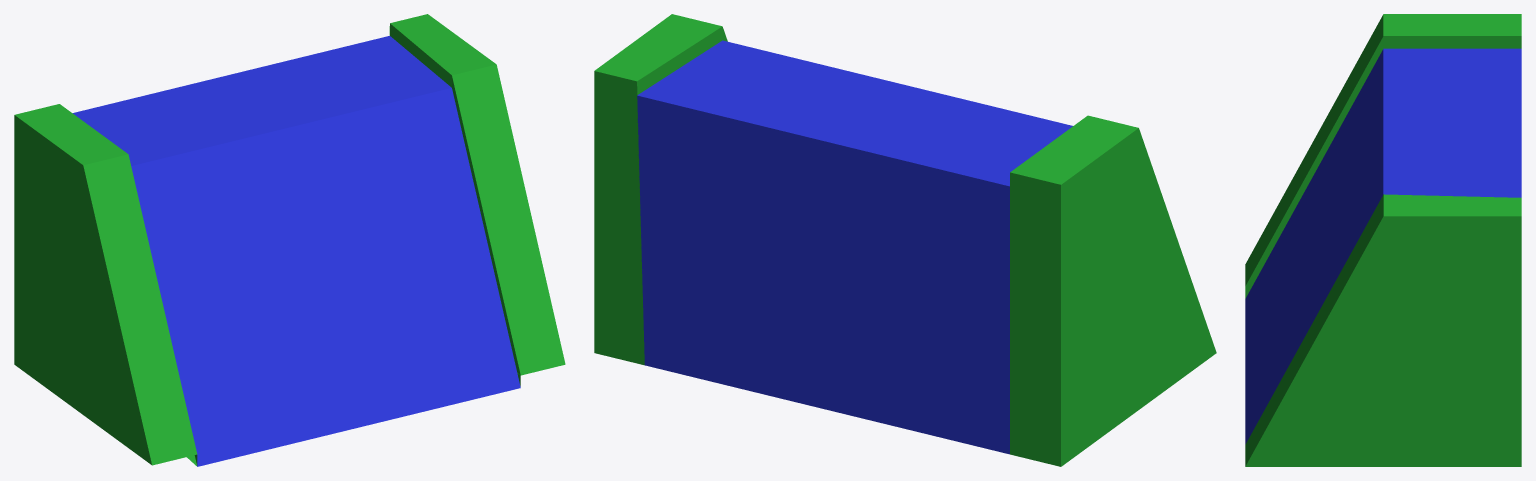
File: cliff-right-river_edge.glb
The picture shows the model from 3 angles, left to right: view 1: azimuth 30°, elevation 25°; view 2: azimuth 150°, elevation 25°; view 3: azimuth 270°, elevation 25°; orthographic projection. The views are drawn at different scales.
Visible parts, largest first — view 1: cliff-right-river_edge; view 2: cliff-right-river_edge; view 3: cliff-right-river_edge.
Boxes of the visible parts, x1,y1,x2,y2 form: cliff-right-river_edge: [14, 14, 565, 466]; cliff-right-river_edge: [594, 14, 1216, 466]; cliff-right-river_edge: [1245, 14, 1521, 466].
Size of the model in its own units: 0.866 by 0.525 by 0.5.
